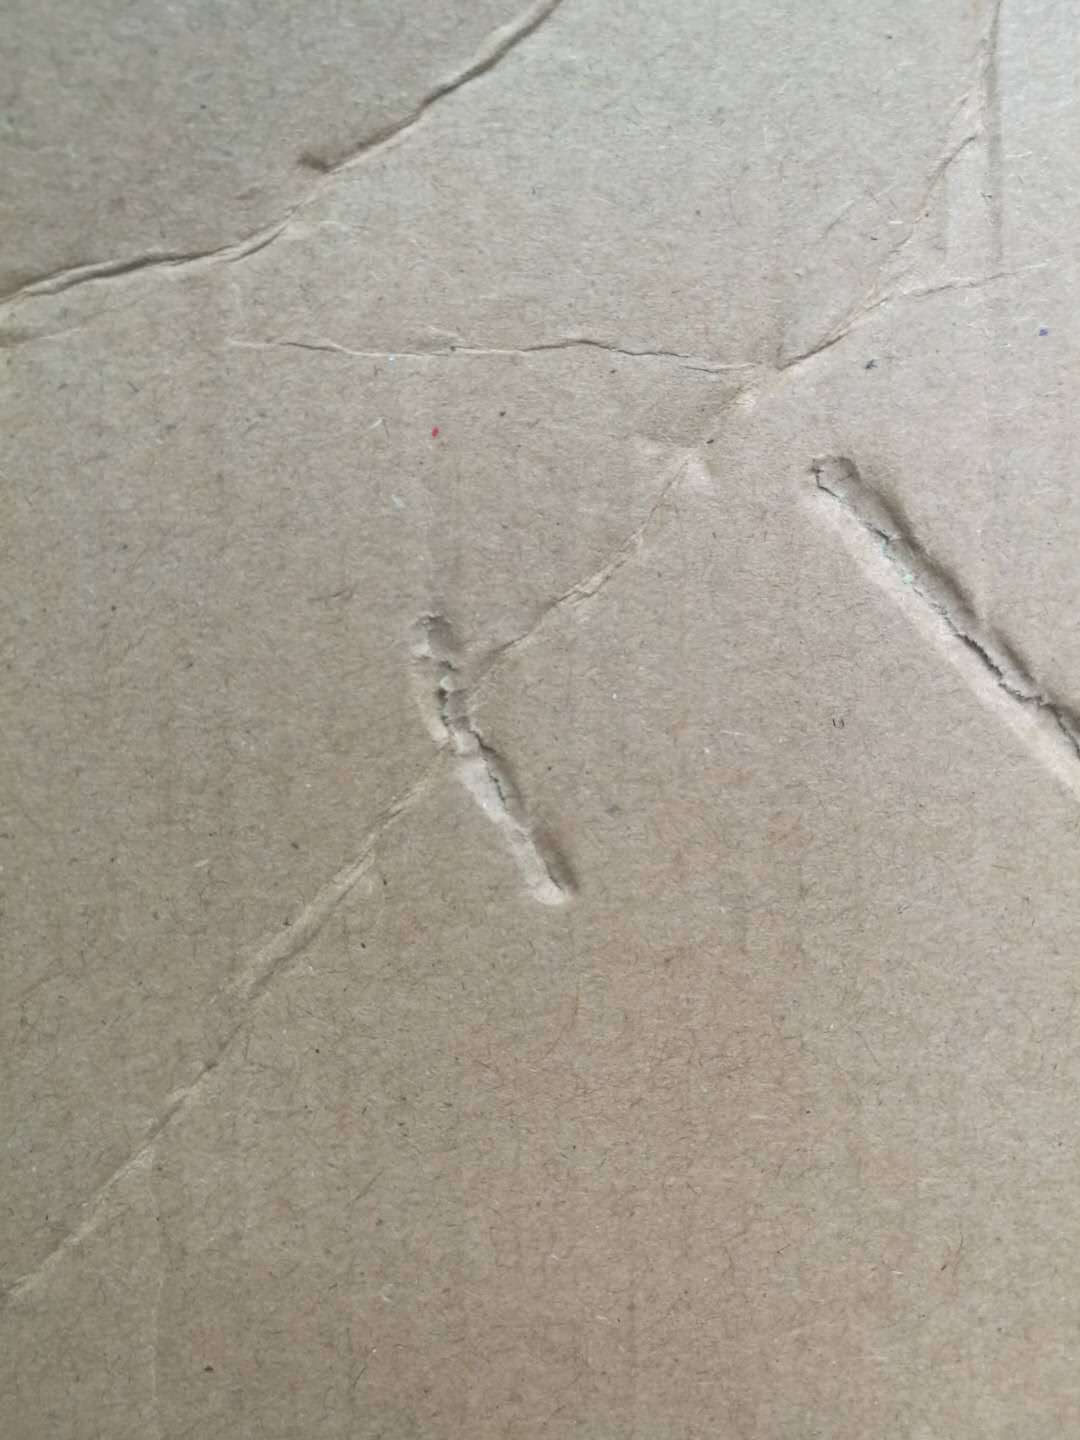defect: (1, 1, 1080, 1322), (1, 5, 677, 412), (786, 421, 1080, 850), (379, 602, 625, 958)
